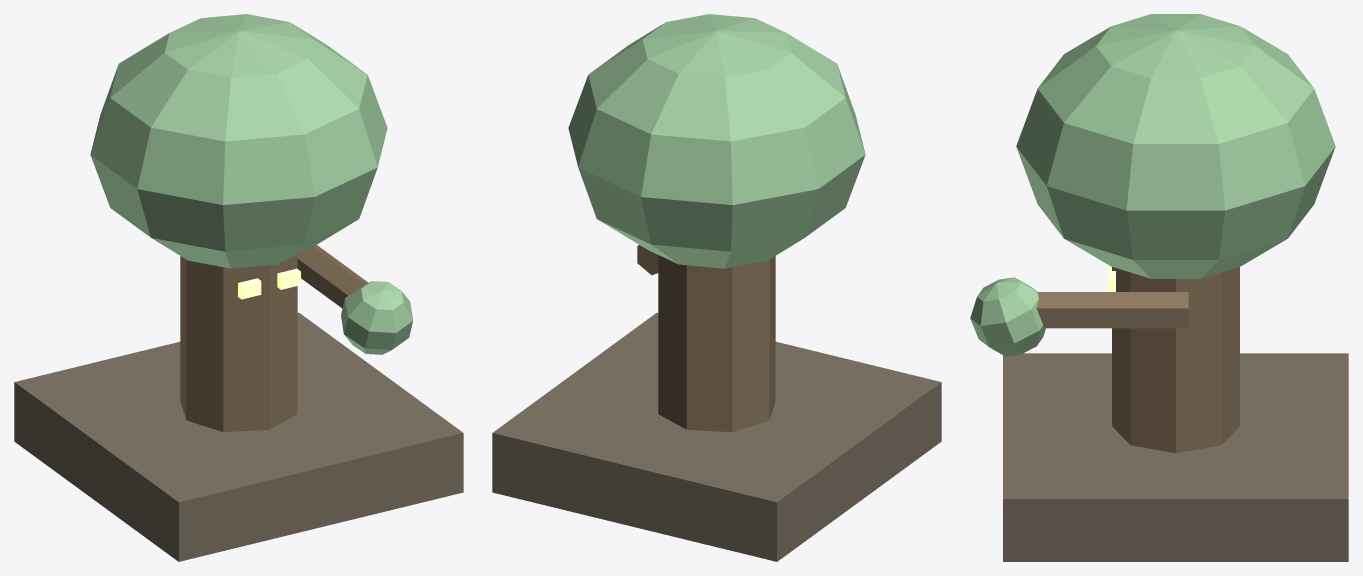
The model's file is elf_world_tree.glb.
3 renders of one model, left to right at view 1: azimuth 30°, elevation 25°; view 2: azimuth 150°, elevation 25°; view 3: azimuth 270°, elevation 25°, orthographic. The views are drawn at different scales.
Parts seen in each view (by area): view 1: TurretMesh, Base, BranchMesh, TurretGlow; view 2: TurretMesh, Base; view 3: TurretMesh, Base, BranchMesh.
Boxes of the visible parts, x1,y1,x2,y2 form: TurretMesh: (90, 14, 387, 432); Base: (14, 312, 463, 561); BranchMesh: (297, 245, 413, 354); TurretGlow: (238, 268, 300, 299); TurretMesh: (568, 14, 865, 432); Base: (492, 312, 941, 561); TurretMesh: (1016, 14, 1335, 453); Base: (1003, 353, 1348, 561); BranchMesh: (970, 277, 1188, 356).
Bounding box in the file's own units: 1.8 × 2.63 × 1.97.
